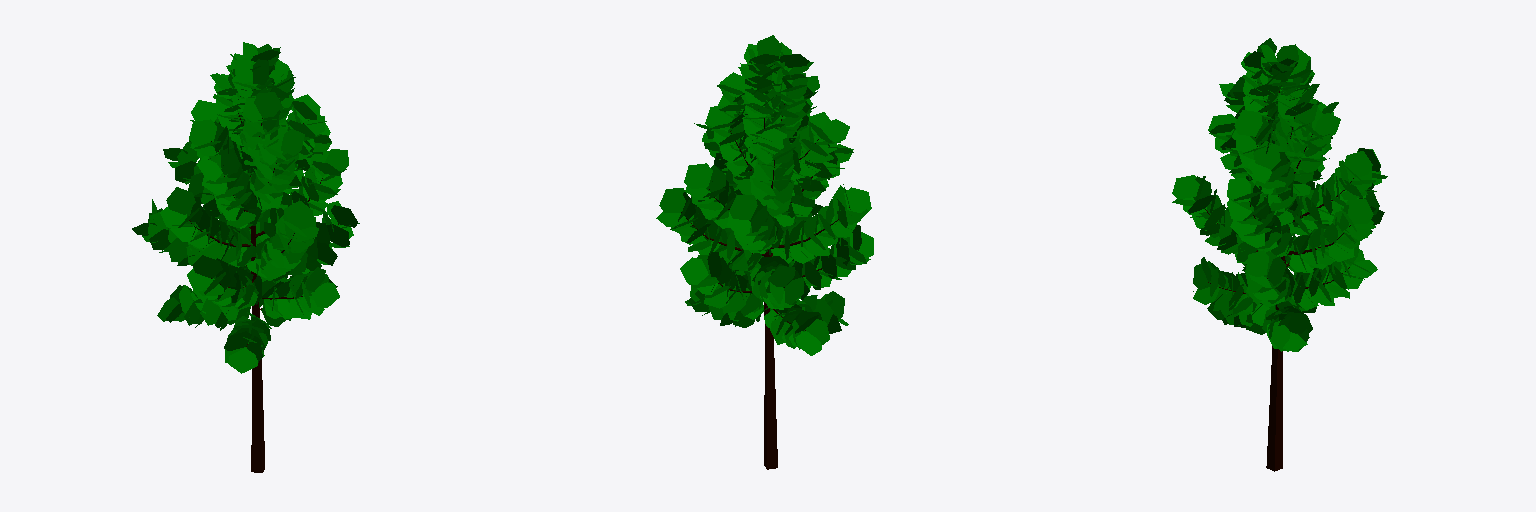
Rendered from tree_medium.obj.
3 renders of one model, left to right at view 1: azimuth 30°, elevation 25°; view 2: azimuth 150°, elevation 25°; view 3: azimuth 270°, elevation 25°, orthographic.
Visible parts, largest first — view 1: leaves.001, tree.001_Mesh.001; view 2: leaves.001, tree.001_Mesh.001; view 3: leaves.001, tree.001_Mesh.001.
Boxes of the visible parts, box(x1,y1,x2,y2) form: leaves.001: box(132, 42, 359, 373); tree.001_Mesh.001: box(189, 113, 338, 472); leaves.001: box(656, 35, 873, 355); tree.001_Mesh.001: box(681, 104, 849, 469); leaves.001: box(1172, 38, 1387, 351); tree.001_Mesh.001: box(1205, 91, 1353, 471).
Bounding box in the file's own units: 6.26 × 13.6 × 6.26.